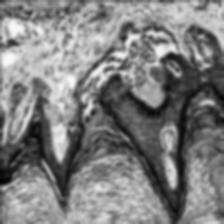Non-Cancerous Skin Condition: (0, 129, 224, 224), (0, 0, 202, 80)
